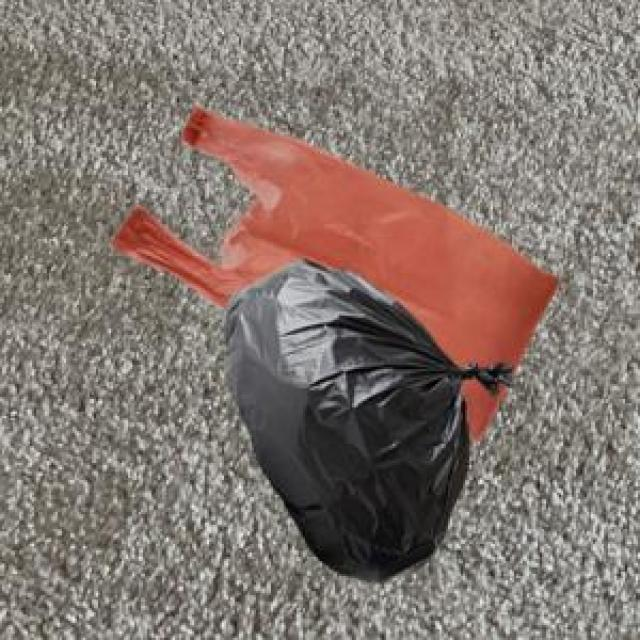miscellaneous trash: (220, 256, 510, 578)
